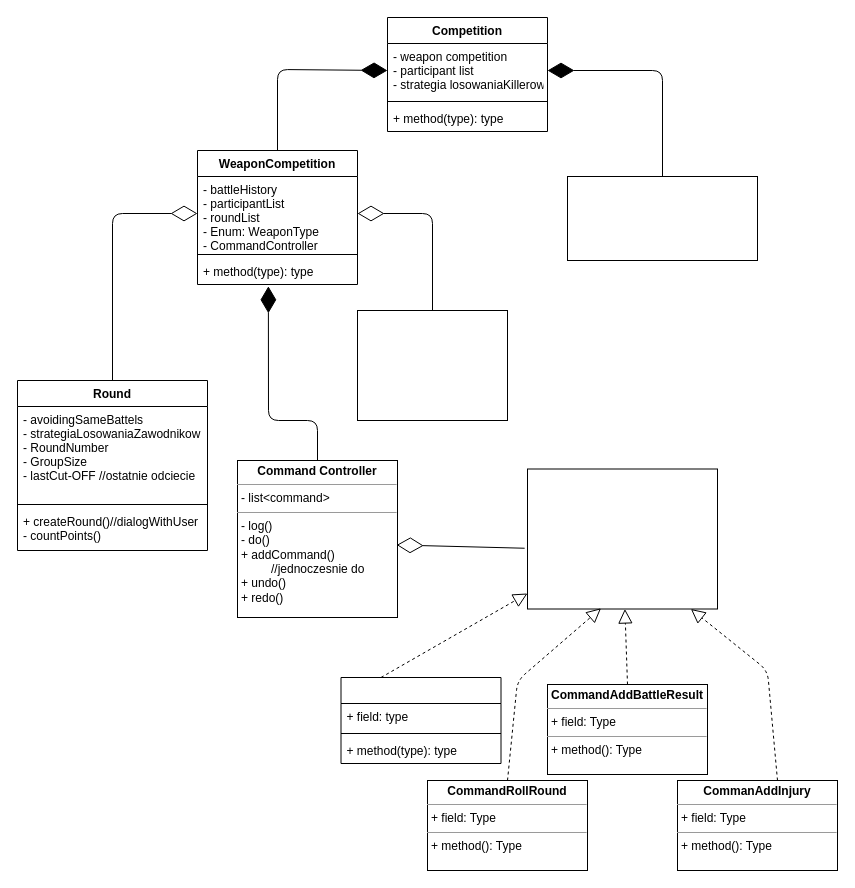
The diagram is 855 pixels wide and 888 high, and some of its shapes have lost their labels. The shapes that lost their labels are listed below. From the top down, each one's box as (x1, y1, x2, y2) in pixels, then its label:
(566, 176, 758, 260): <<Interface>> KillerRandomizer + participantList + drawKiller()
(356, 310, 508, 420): <<Enumeration>> WeaponType + type + drawKiller()
(526, 468, 718, 609): <<Interface>> Command + command + do() + undo(): Type + redo(): Type
(340, 676, 501, 764): CommandAddPoints
